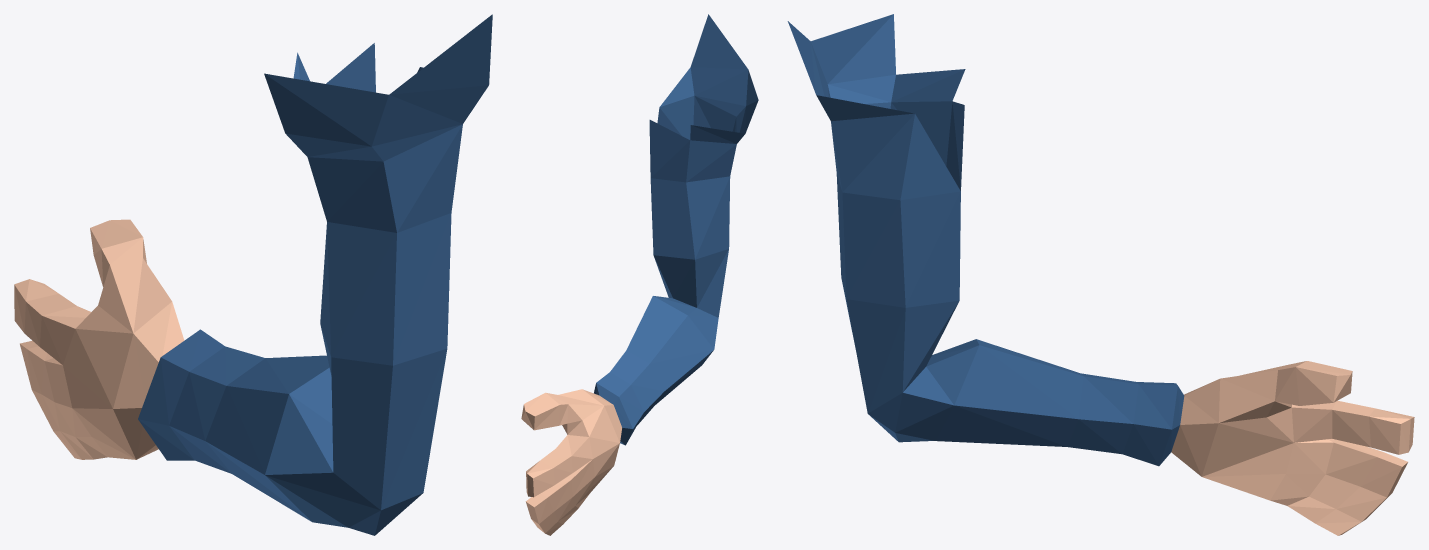
The model's file is Son_01_ArmL_78_02_A.obj.
3 renders of one model, left to right at view 1: azimuth 30°, elevation 25°; view 2: azimuth 150°, elevation 25°; view 3: azimuth 270°, elevation 25°, orthographic. The views are drawn at different scales.
Visible parts, largest first — view 1: Son_01_ArmL_78_02_A; view 2: Son_01_ArmL_78_02_A; view 3: Son_01_ArmL_78_02_A.
Part boxes in pixels (x1,y1,x2,y2): Son_01_ArmL_78_02_A: (14, 14, 492, 535); Son_01_ArmL_78_02_A: (521, 14, 758, 535); Son_01_ArmL_78_02_A: (787, 14, 1414, 535).
Size of the model in its own units: 0.1573 by 0.5829 by 0.6156.
Materials: 1 (1 with a texture image).
